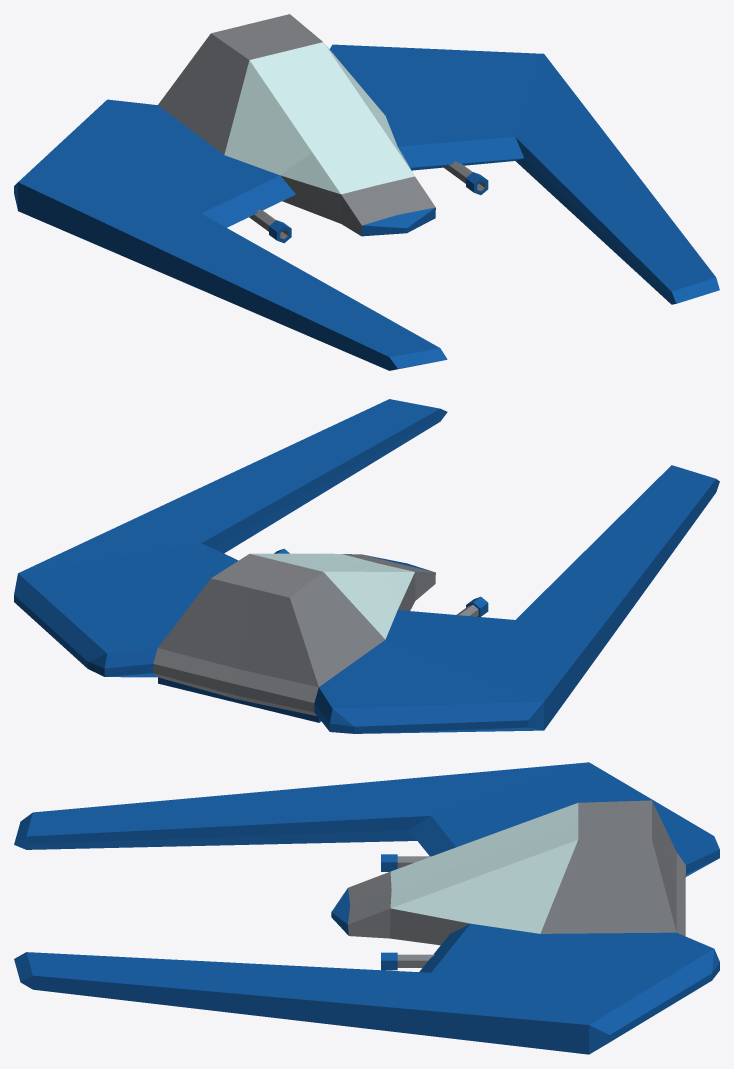
File: drone_10_2.gltf
3 views of the same model, one above another, from view 1: azimuth 30°, elevation 25°; view 2: azimuth 150°, elevation 25°; view 3: azimuth 270°, elevation 25° (orthographic). The views are drawn at different scales.
Visible parts, largest first — view 1: 10.002; view 2: 10.002; view 3: 10.002.
Boxes of the visible parts, x1,y1,x2,y2 form: 10.002: [14, 14, 719, 370]; 10.002: [14, 399, 719, 733]; 10.002: [14, 762, 719, 1054].
Bounding box in the file's own units: 5.92 × 1.15 × 6.72.
1 material, 1 textured.
